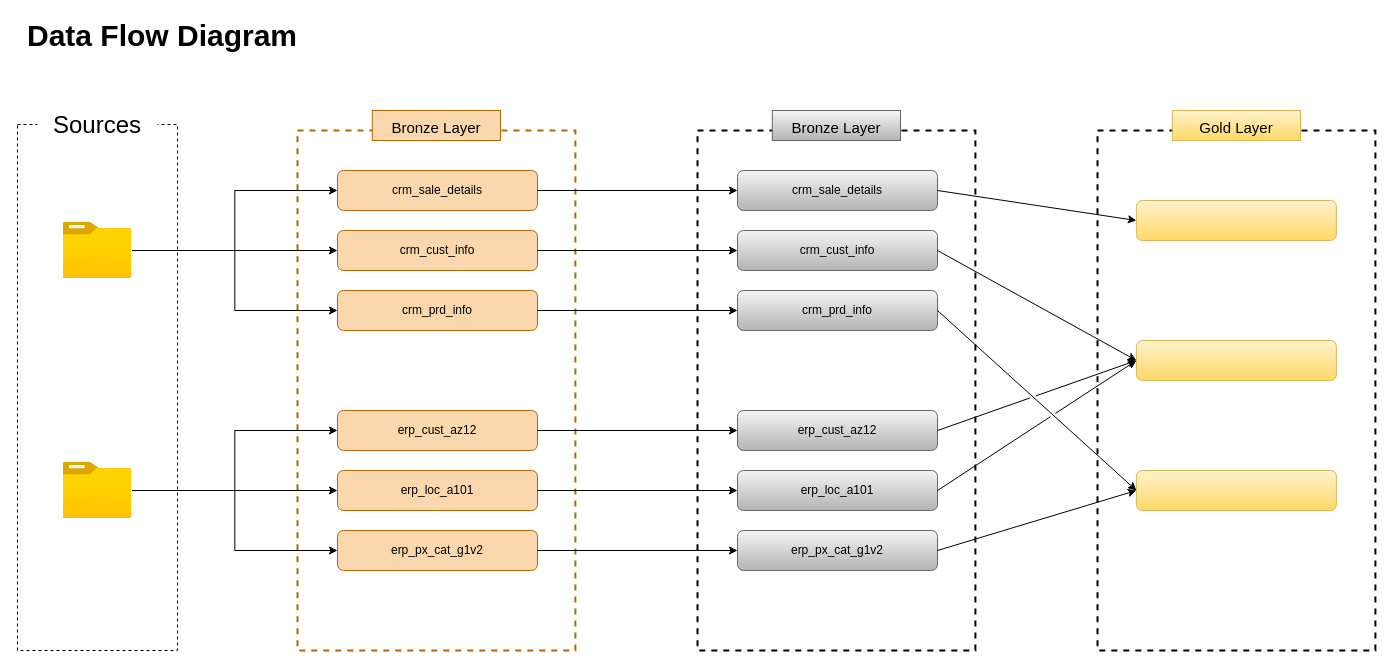
The diagram is 1395 pixels wide and 668 high, and some of its shapes have lost their labels. Here are the shapes that lost their labels. From the top down, the centre of each, then its label:
point (1235, 220): fact_sales
point (97, 250): CRM
point (1235, 360): dim_customers
point (97, 490): ERP
point (1235, 490): dim_product
